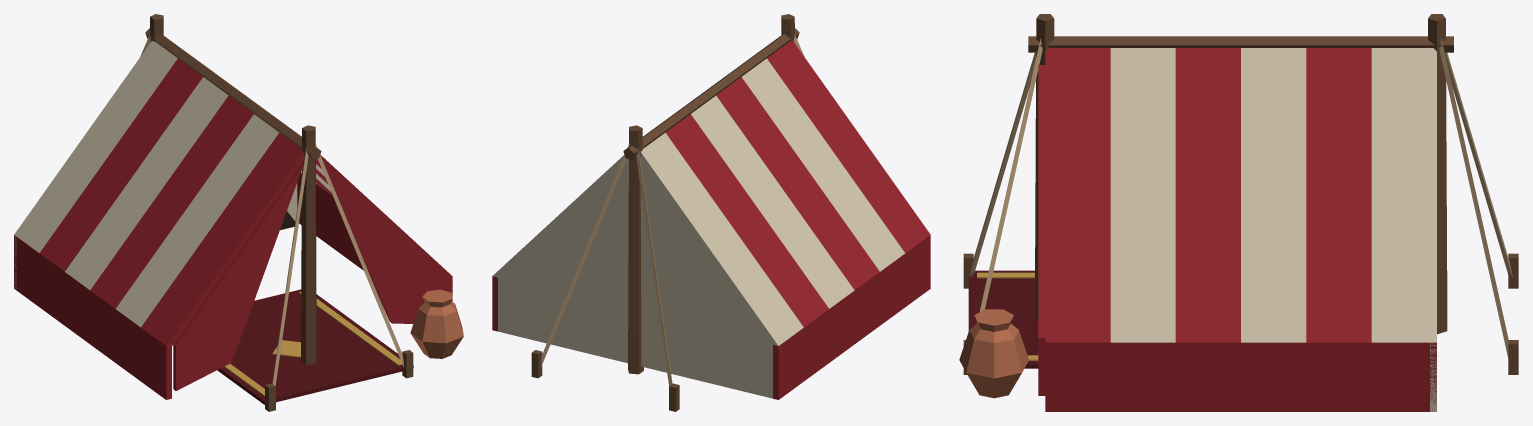
The model's file is Desert_Tent.fbx.
3 renders of one model, left to right at view 1: azimuth 30°, elevation 25°; view 2: azimuth 150°, elevation 25°; view 3: azimuth 270°, elevation 25°, orthographic. The views are drawn at different scales.
Parts seen in each view (by area): view 1: Cloth, Cloth2, Rug, Poles, Pot, Ropes, Gold; view 2: Cloth2, Cloth, Poles, Ropes; view 3: Cloth, Cloth2, Poles, Ropes, Pot, Rug.
Part boxes in pixels (x1,y1,x2,y2): Cloth: (14, 58, 452, 399); Cloth2: (14, 40, 331, 327); Rug: (217, 289, 413, 404); Poles: (145, 14, 413, 411); Pot: (410, 289, 463, 358); Ropes: (140, 34, 403, 385); Gold: (224, 291, 402, 396); Cloth2: (492, 58, 905, 398); Cloth: (492, 40, 930, 399); Poles: (531, 14, 799, 411); Ropes: (540, 35, 804, 385); Cloth: (1038, 48, 1436, 411); Cloth2: (1110, 48, 1436, 411); Poles: (963, 14, 1518, 374); Ropes: (969, 38, 1512, 357); Pot: (959, 309, 1028, 398); Rug: (968, 270, 1038, 368).
Bounding box in the file's own units: 5 × 4.05 × 6.57.
